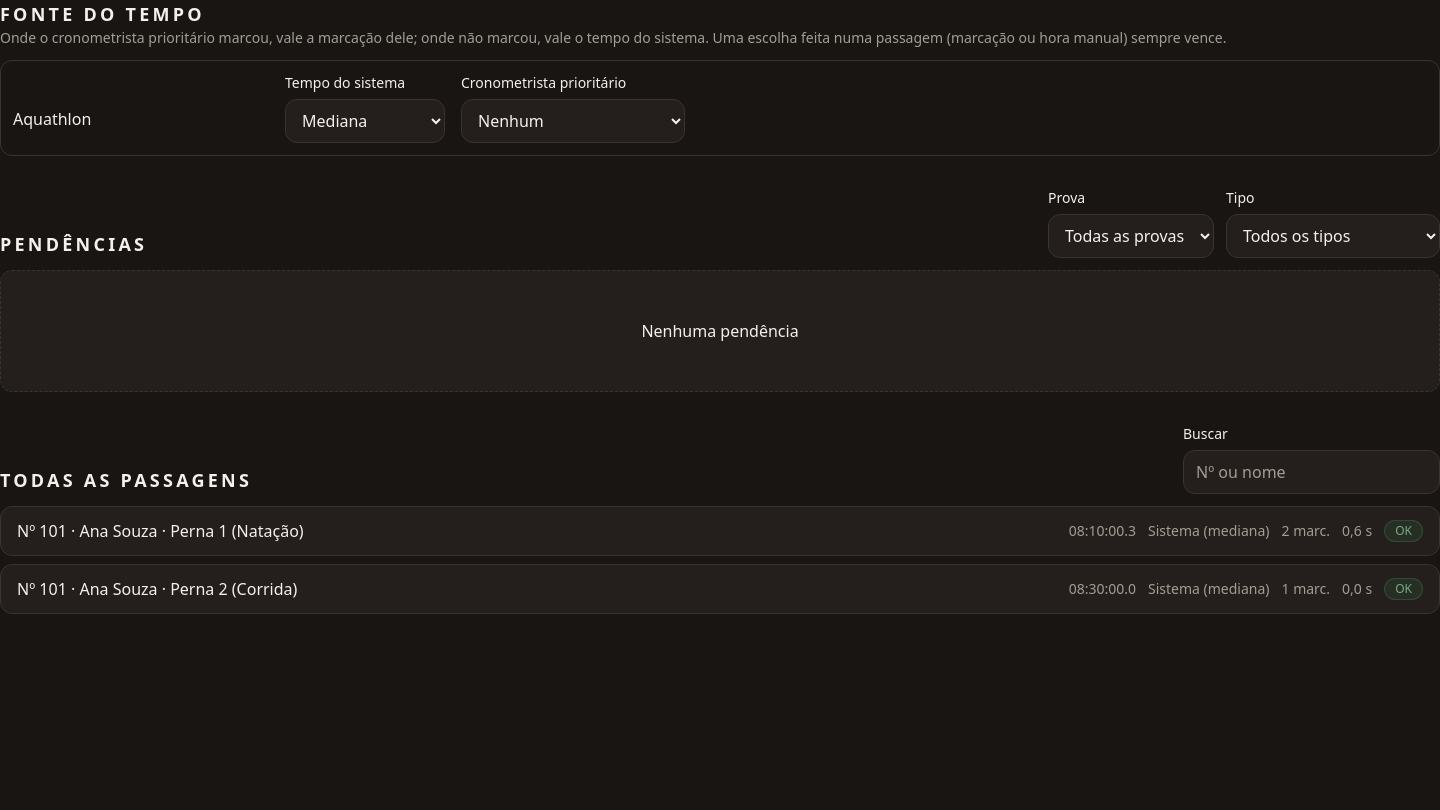
Test: ReviewTab: pt-BR numbers and the reference timekeeper (B2-m12, Ruling 59 entry) › shows each mark's distance to the median with a sign and a decimal comma
Click the button with test id "crossing-row" at x=118, y=531, box [0, 506, 1439, 556]
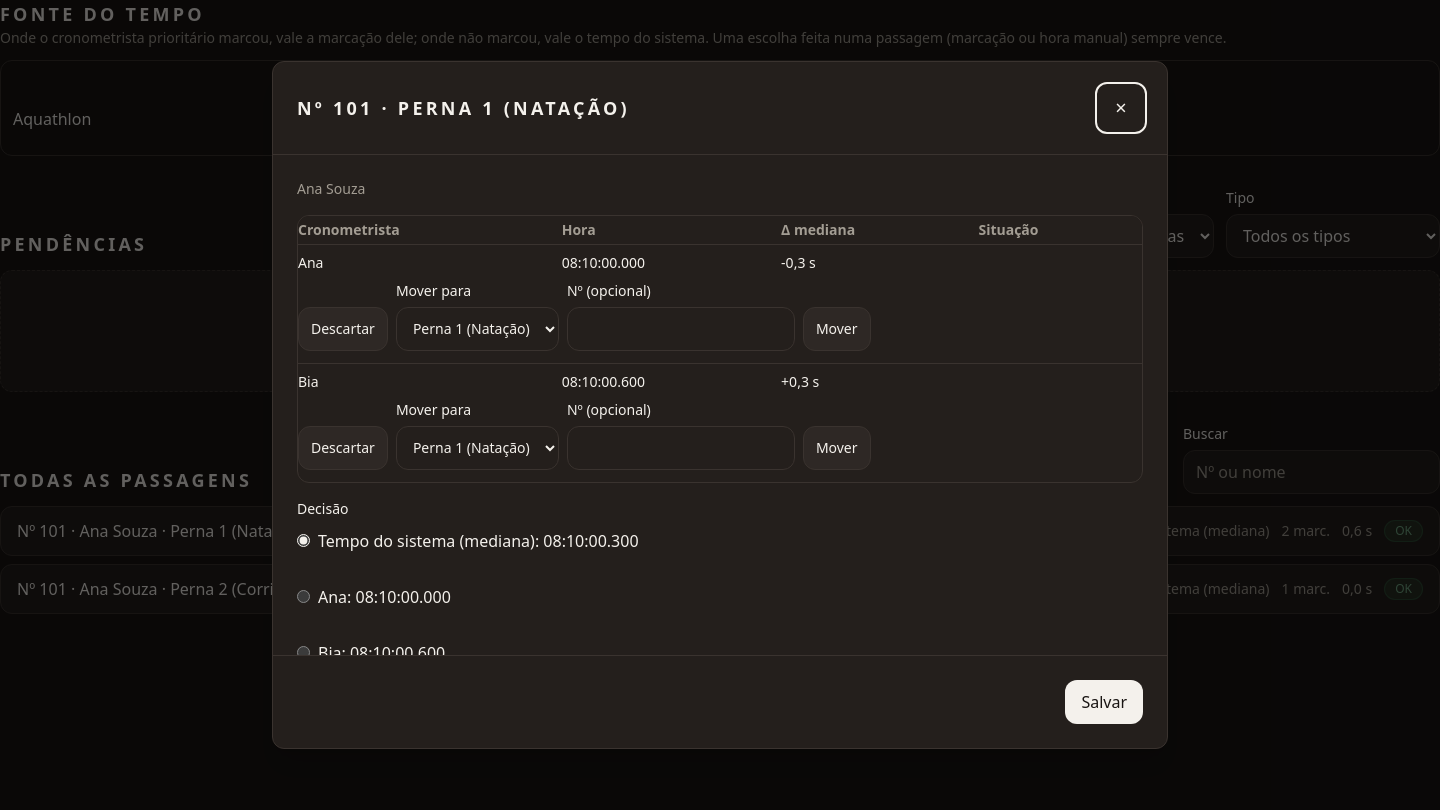
Now the dialog shows "-0,3 s", box [781, 253, 816, 272]
Now the dialog shows "+0,3 s", box [781, 372, 819, 391]
